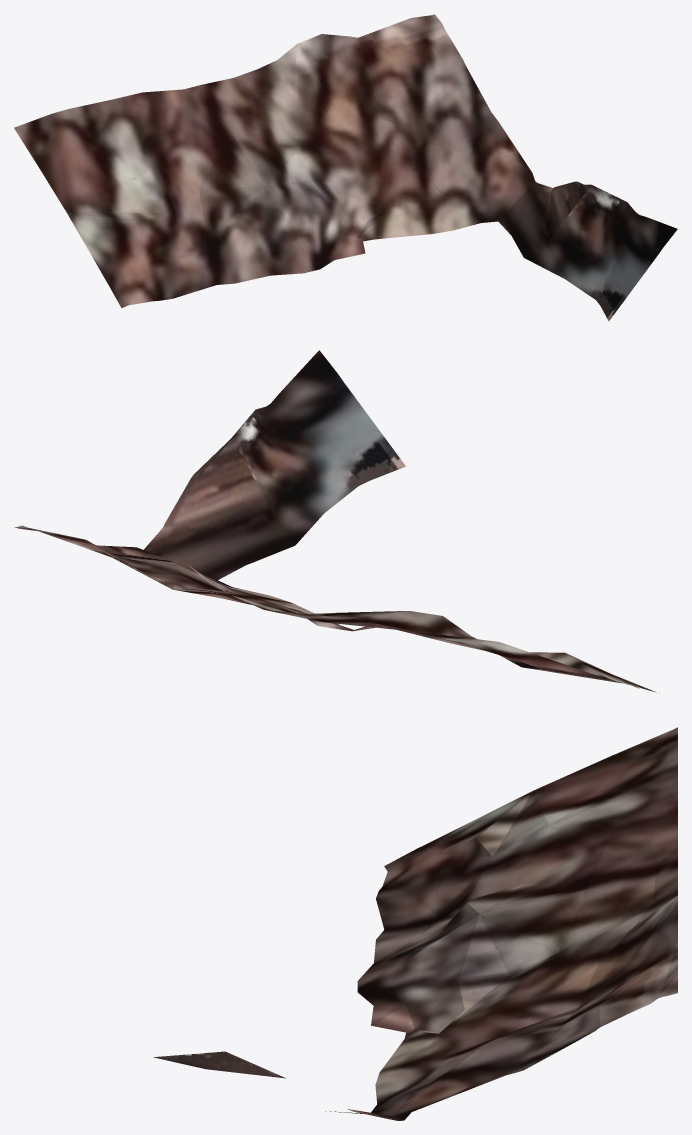
3 renders of one model, top to bottom at view 1: azimuth 30°, elevation 25°; view 2: azimuth 150°, elevation 25°; view 3: azimuth 270°, elevation 25°, orthographic. The views are drawn at different scales.
Size of the model in its own units: 1.67 by 0.4582 by 1.67.
Materials: 2 (2 with a texture image).
